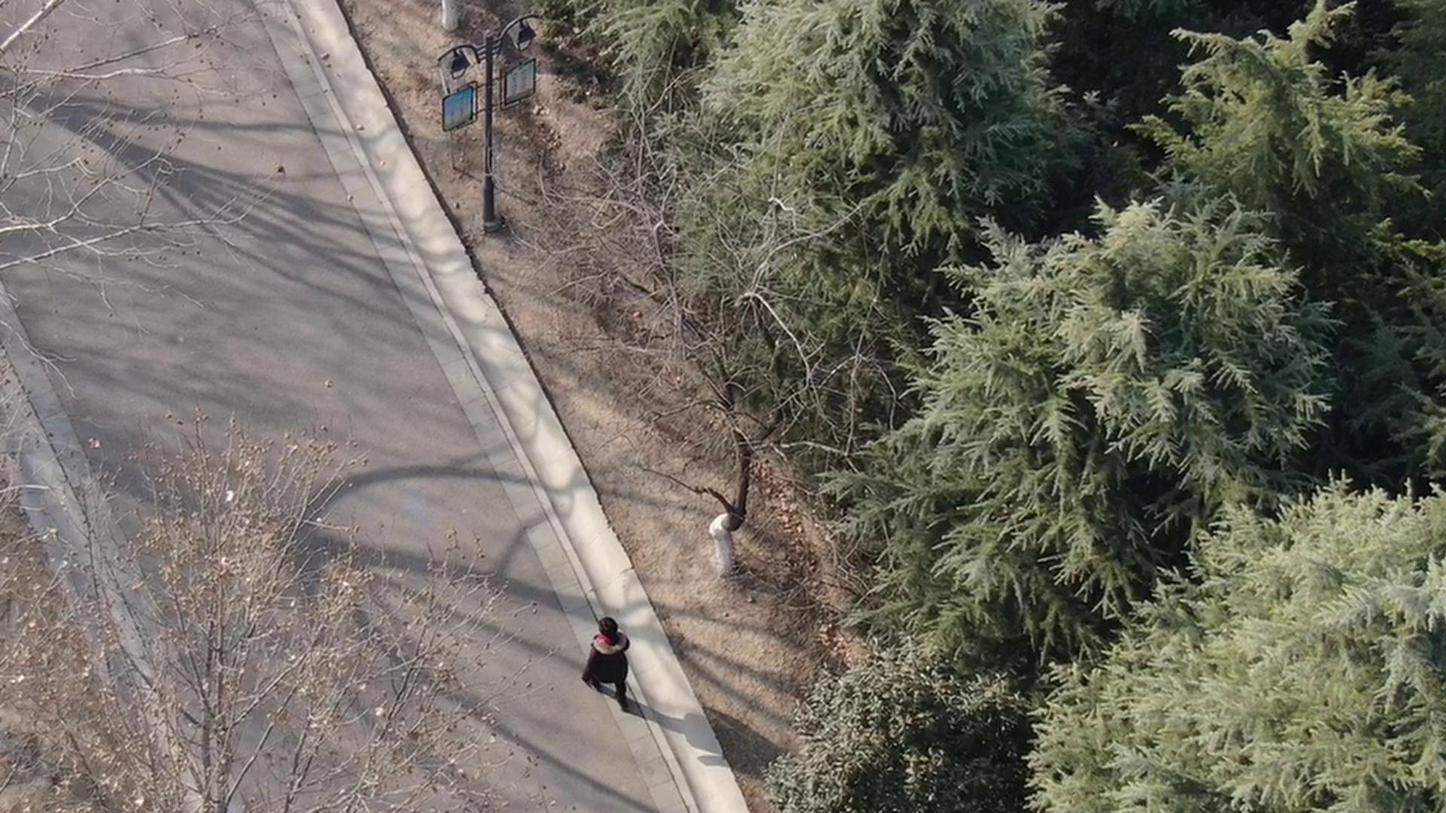human: (569, 619, 635, 717)
